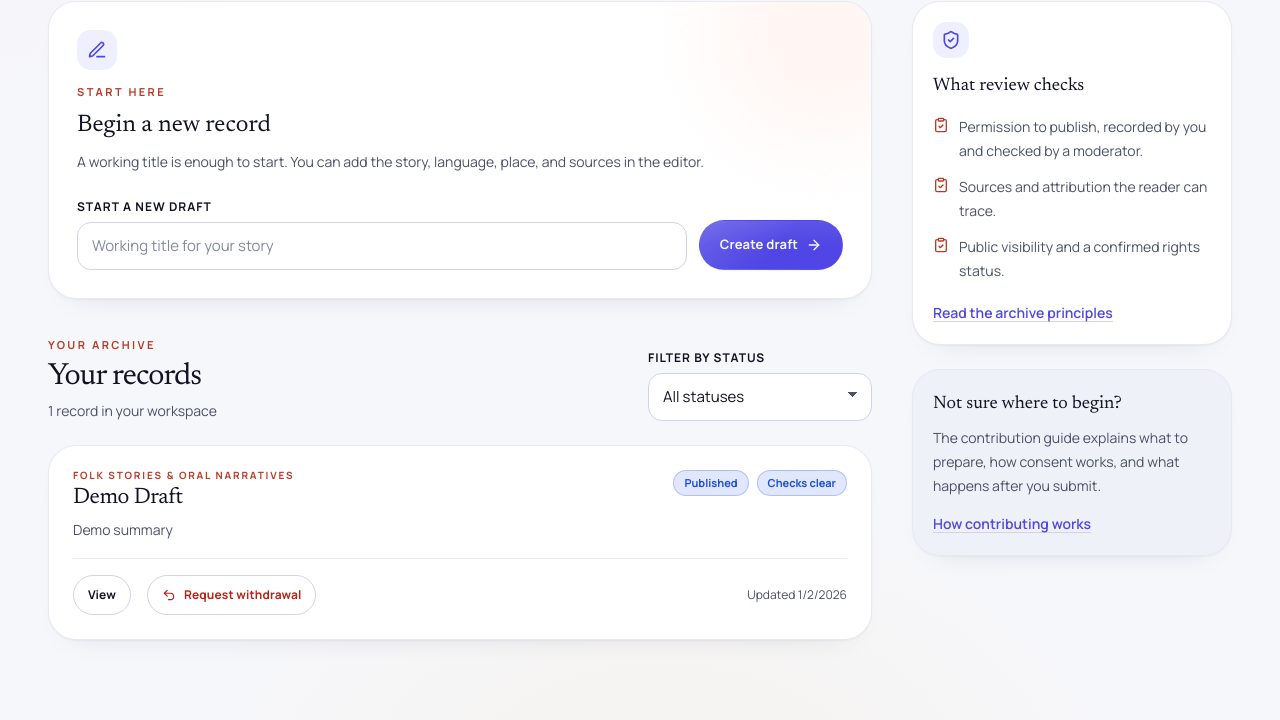
Test: DashboardPage › requests a withdrawal instead of deleting a published record
(page scrolled)
Expected: the link "Demo Draft" is shown, [73,487,183,509]
Click the button "Request withdrawal" at (232, 595), box [147,575,316,615]
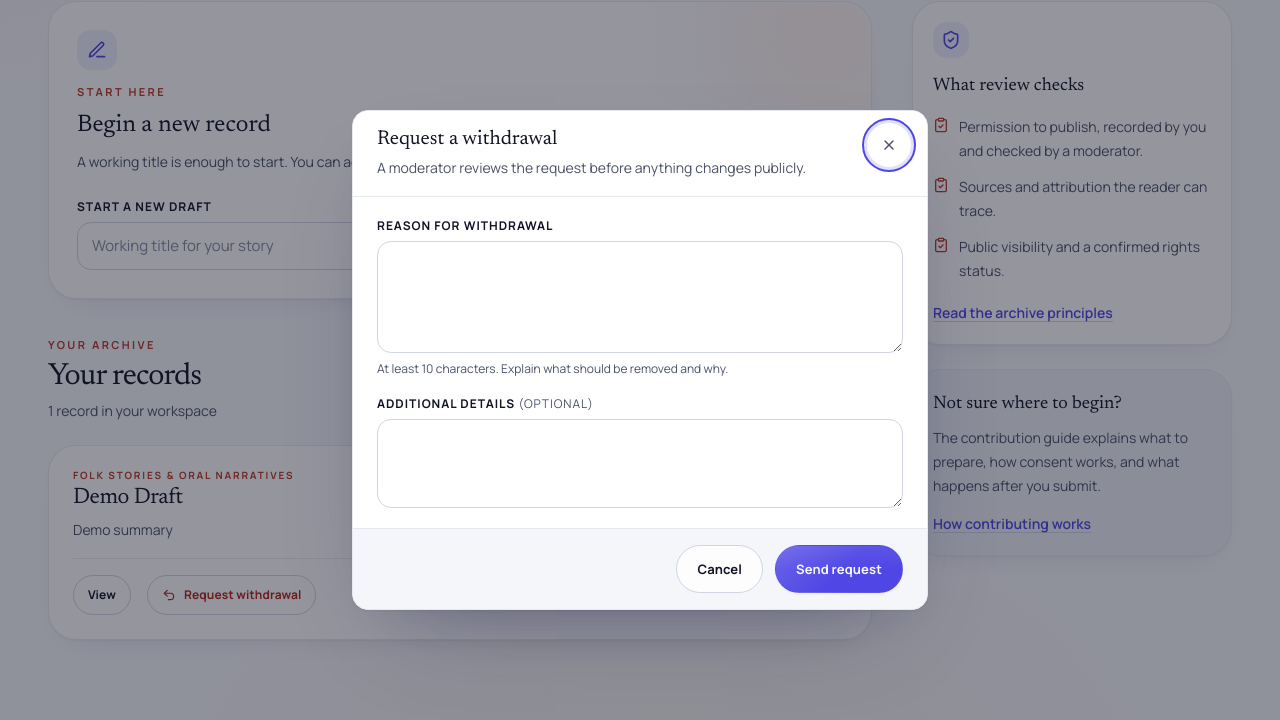
Type "The family asked us to remove this record from the archive." into the text box labelled "Reason for withdrawal" at (640, 297), box [377,241,903,353]
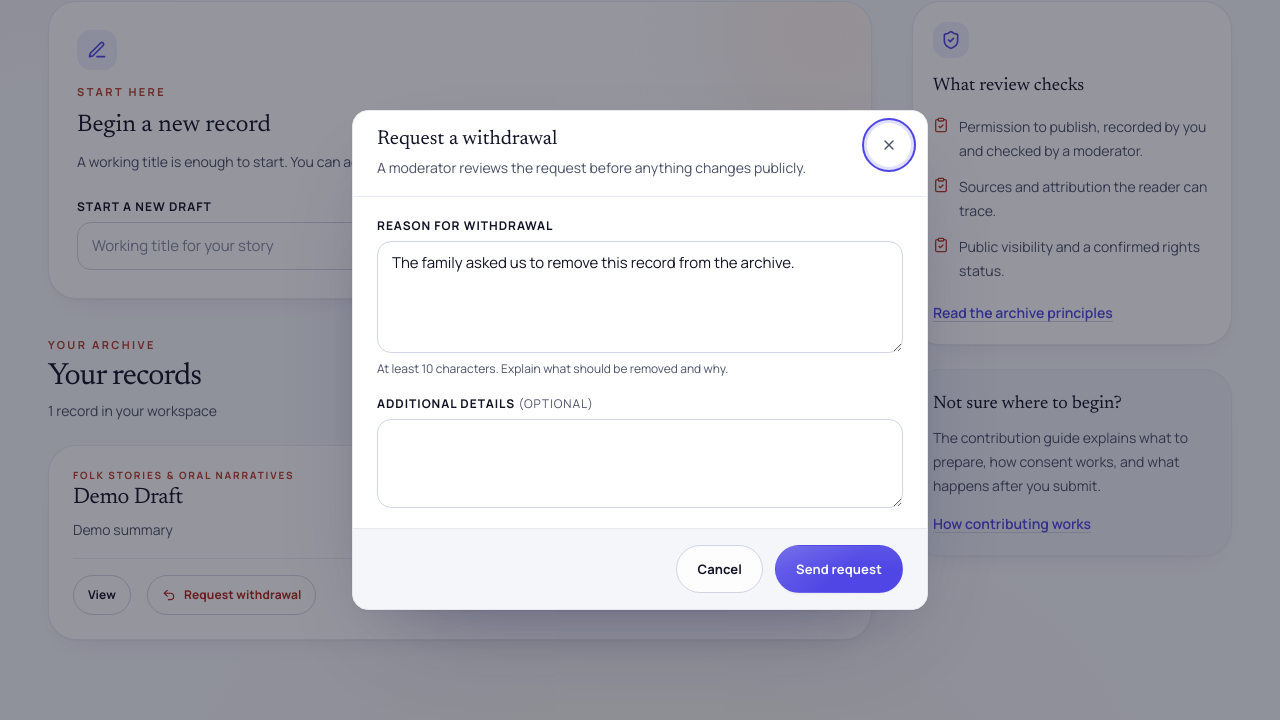
Click the button "Send request" at (839, 569), box [775,545,903,593]
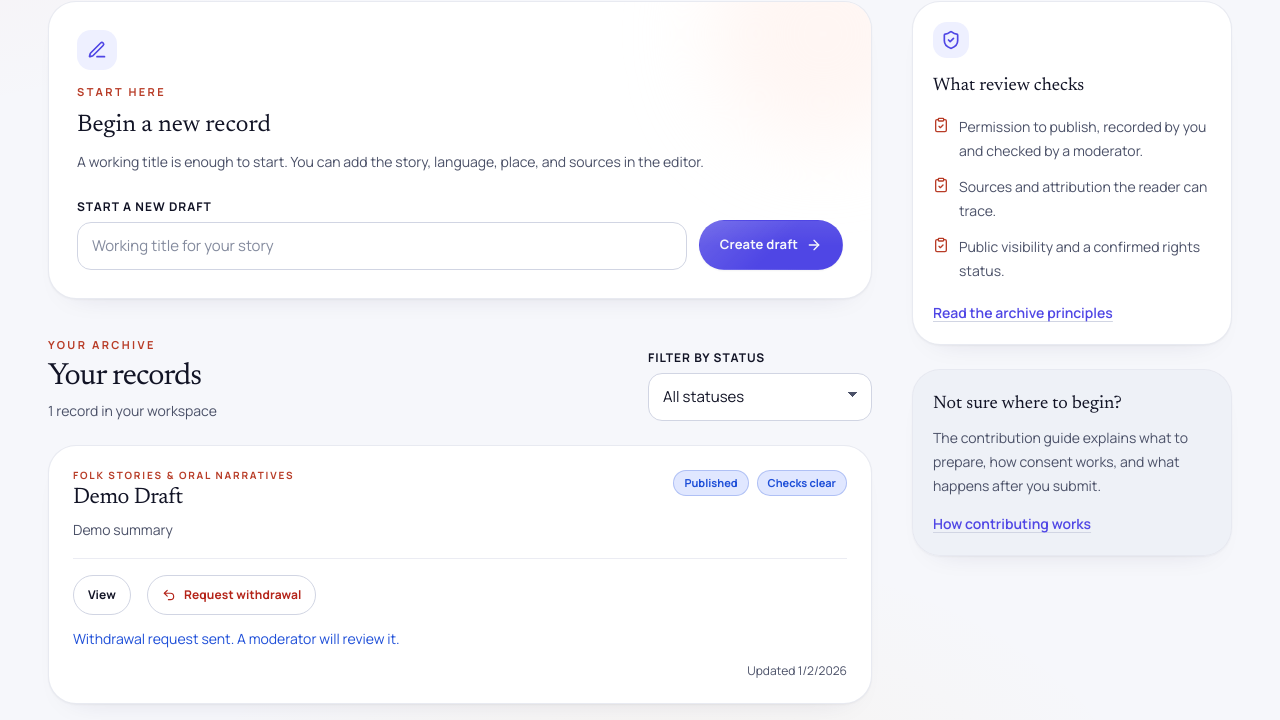
Now the text "Withdrawal request sent. A moderator will review it." is shown, box [73,629,400,648]
